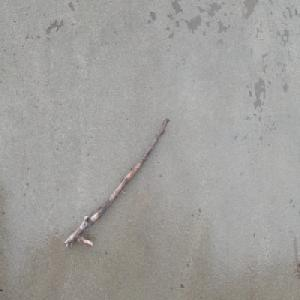Wood: (63, 115, 170, 250)
